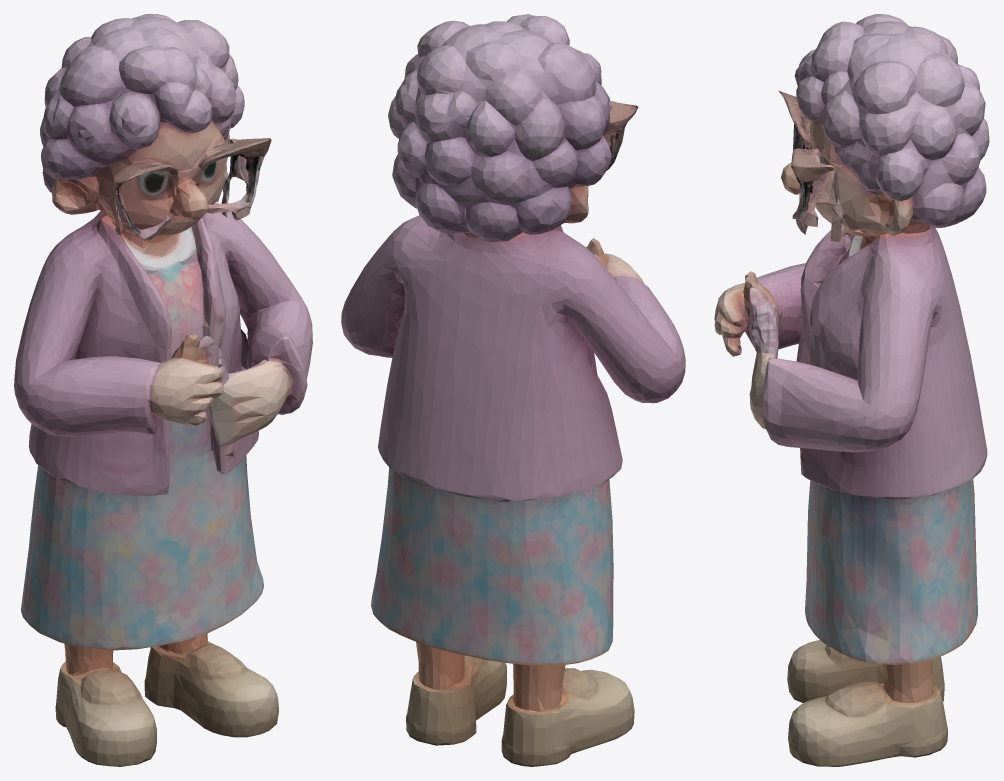
File: dot.glb
3 renders of one model, left to right at view 1: azimuth 30°, elevation 25°; view 2: azimuth 150°, elevation 25°; view 3: azimuth 270°, elevation 25°, orthographic. The views are drawn at different scales.
Visible parts, largest first — view 1: geometry_0; view 2: geometry_0; view 3: geometry_0.
Part boxes in pixels (x1,y1,x2,y2): geometry_0: (14, 14, 312, 766); geometry_0: (341, 14, 685, 766); geometry_0: (714, 14, 989, 766).
Bounding box in the file's own units: 0.462 × 0.9995 × 0.3634.
Materials: 1 (1 with a texture image).
